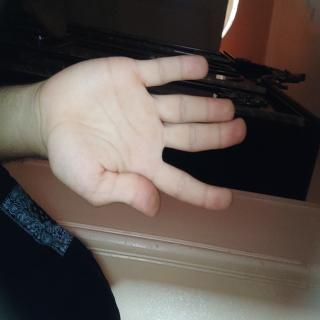SHEEN: (33, 89, 168, 320)
